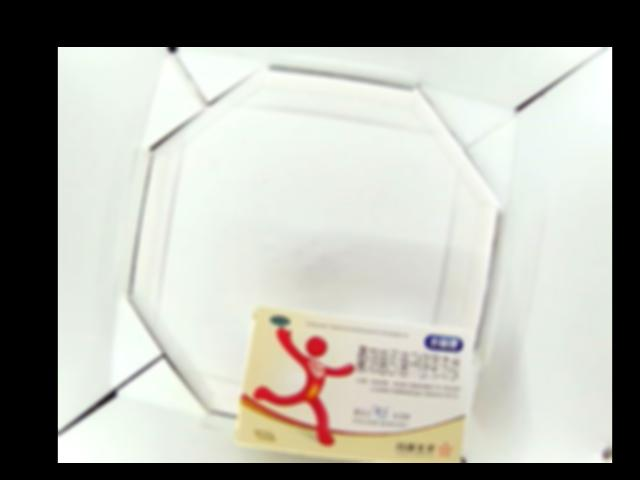Medicine: (233, 305, 470, 462)
